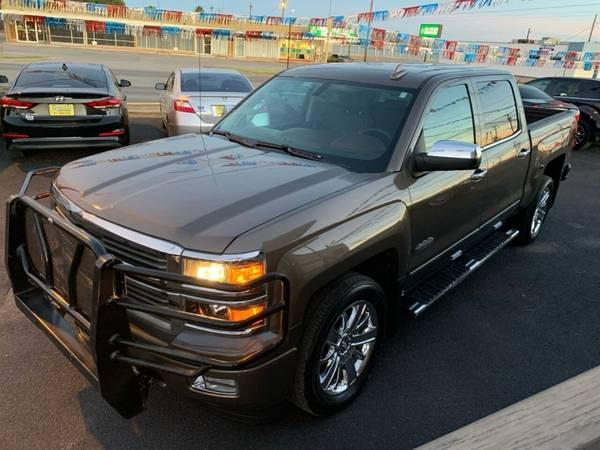Front_Bumper: (42, 260, 300, 424)
Front_Fender: (225, 177, 414, 345)
Front_Left_Door: (407, 151, 498, 310)
Front_Left_Window: (405, 78, 481, 178)
Front_Windshield: (215, 72, 424, 170)
Grille: (49, 191, 184, 332)
Hood: (55, 136, 397, 255)
Left_Headlight: (183, 254, 275, 349)
Rear_Fender: (528, 107, 579, 208)
Rear_Left_Door: (484, 127, 530, 248)
Rear_Left_Window: (471, 74, 523, 148)
Roof: (285, 53, 532, 173)
Wheel: (306, 275, 396, 414), (528, 178, 556, 241)
